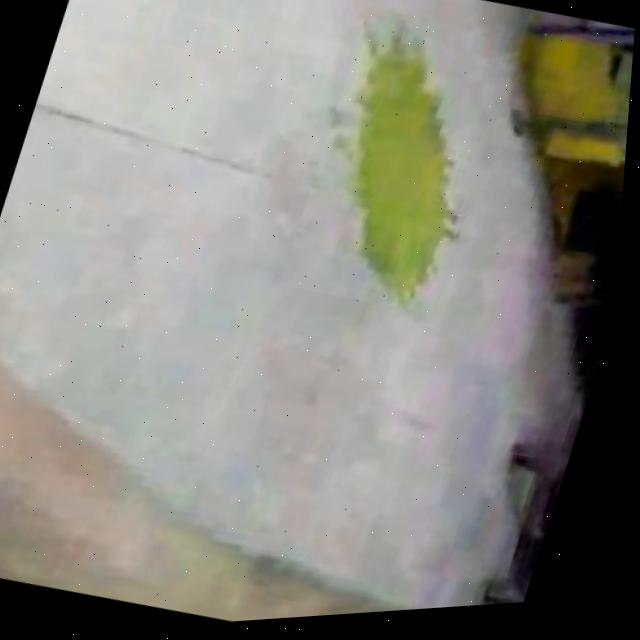spillage: (352, 16, 461, 313)
